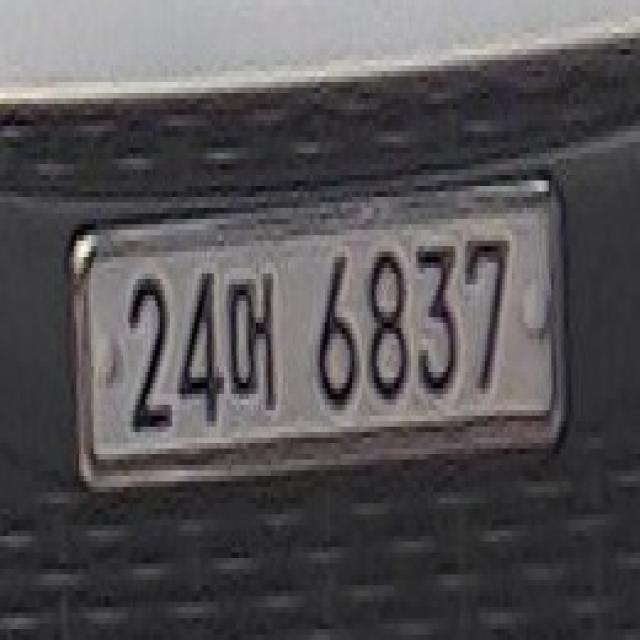plat: (67, 172, 569, 489)
